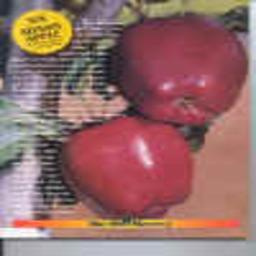apple: (113, 16, 247, 126), (64, 118, 194, 214)
